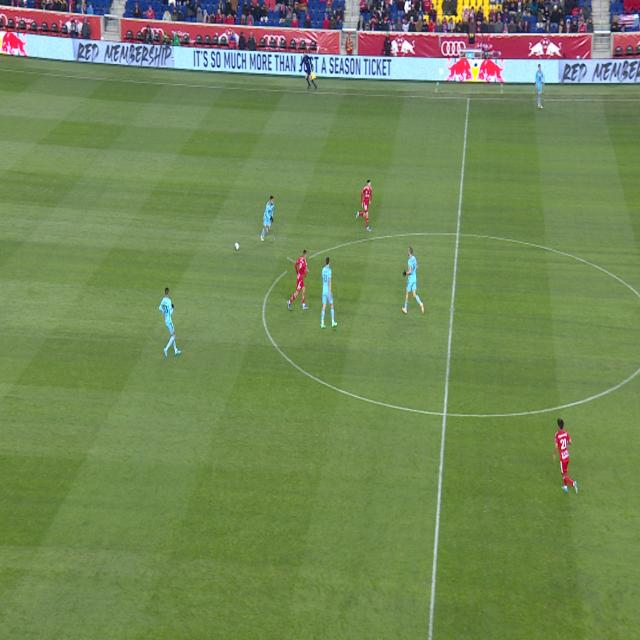football: (235, 242, 239, 250)
player: (553, 417, 578, 494), (158, 287, 182, 357), (402, 246, 424, 315), (287, 250, 309, 310), (321, 257, 337, 329), (356, 180, 372, 232), (261, 196, 274, 242), (536, 65, 544, 109), (162, 306, 164, 308)
